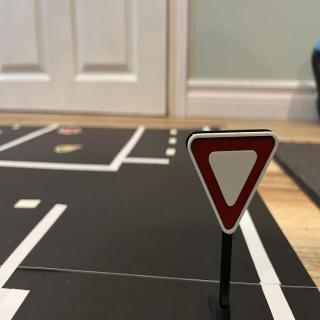sign_yield: (187, 131, 280, 237)
